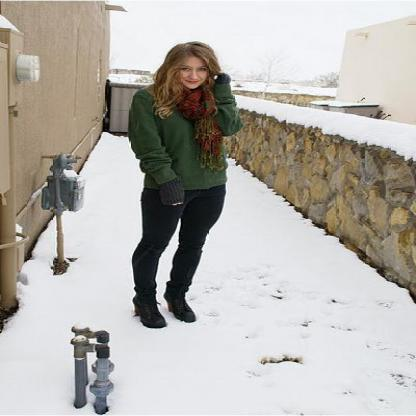jacket: (120, 75, 254, 204)
pants: (132, 184, 225, 296)
shoe: (133, 291, 195, 328)
